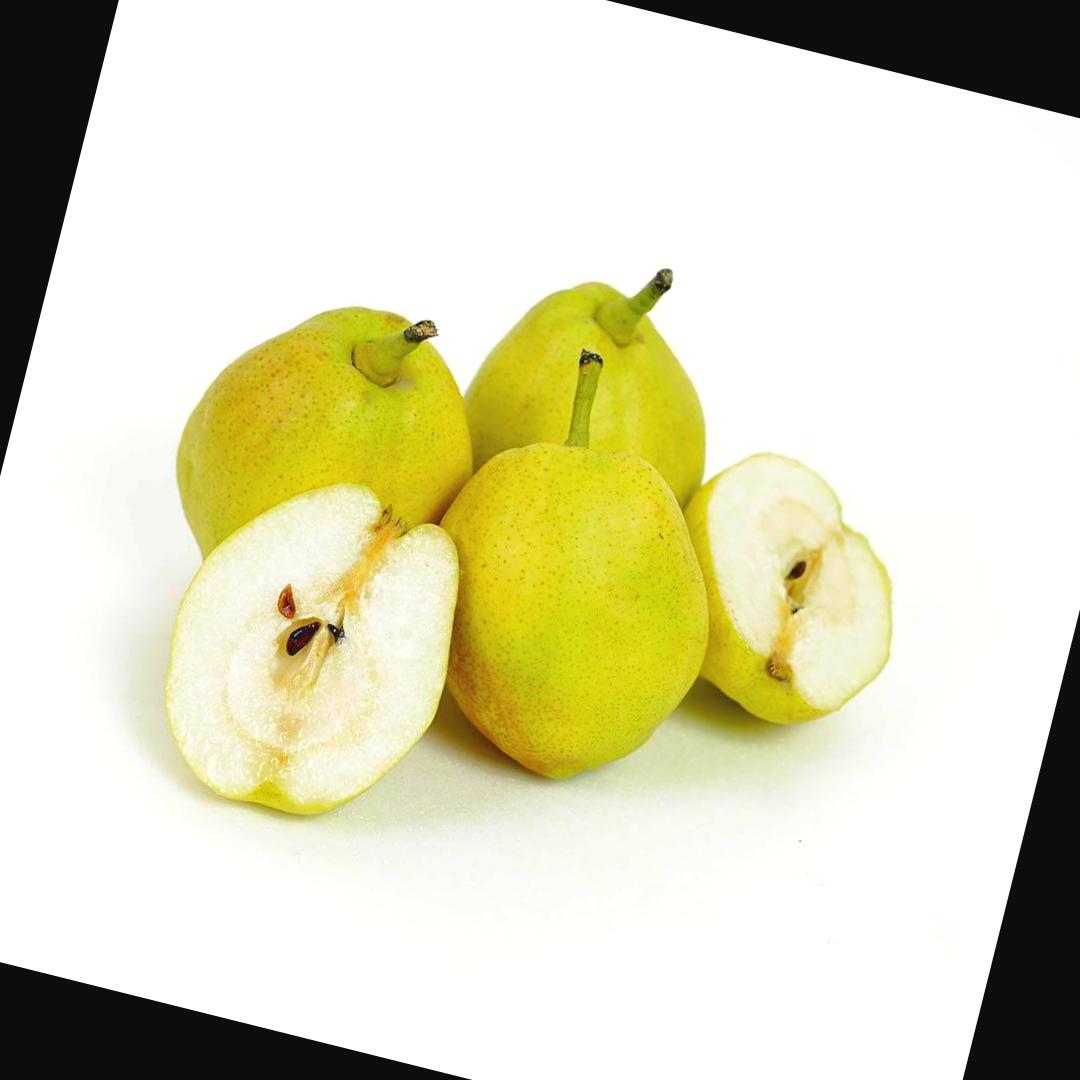Pear Unripe: (404, 421, 774, 835)
